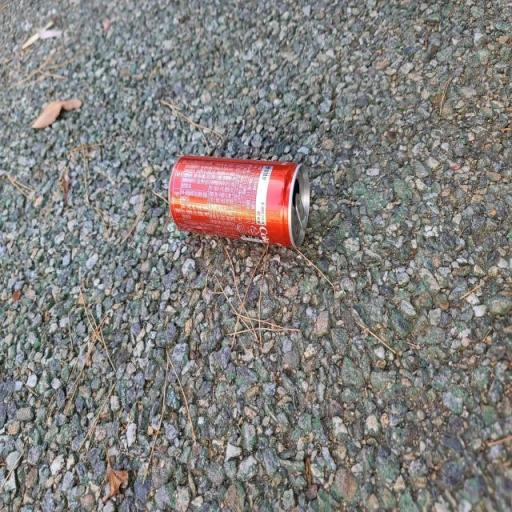metal: (132, 120, 357, 301)
